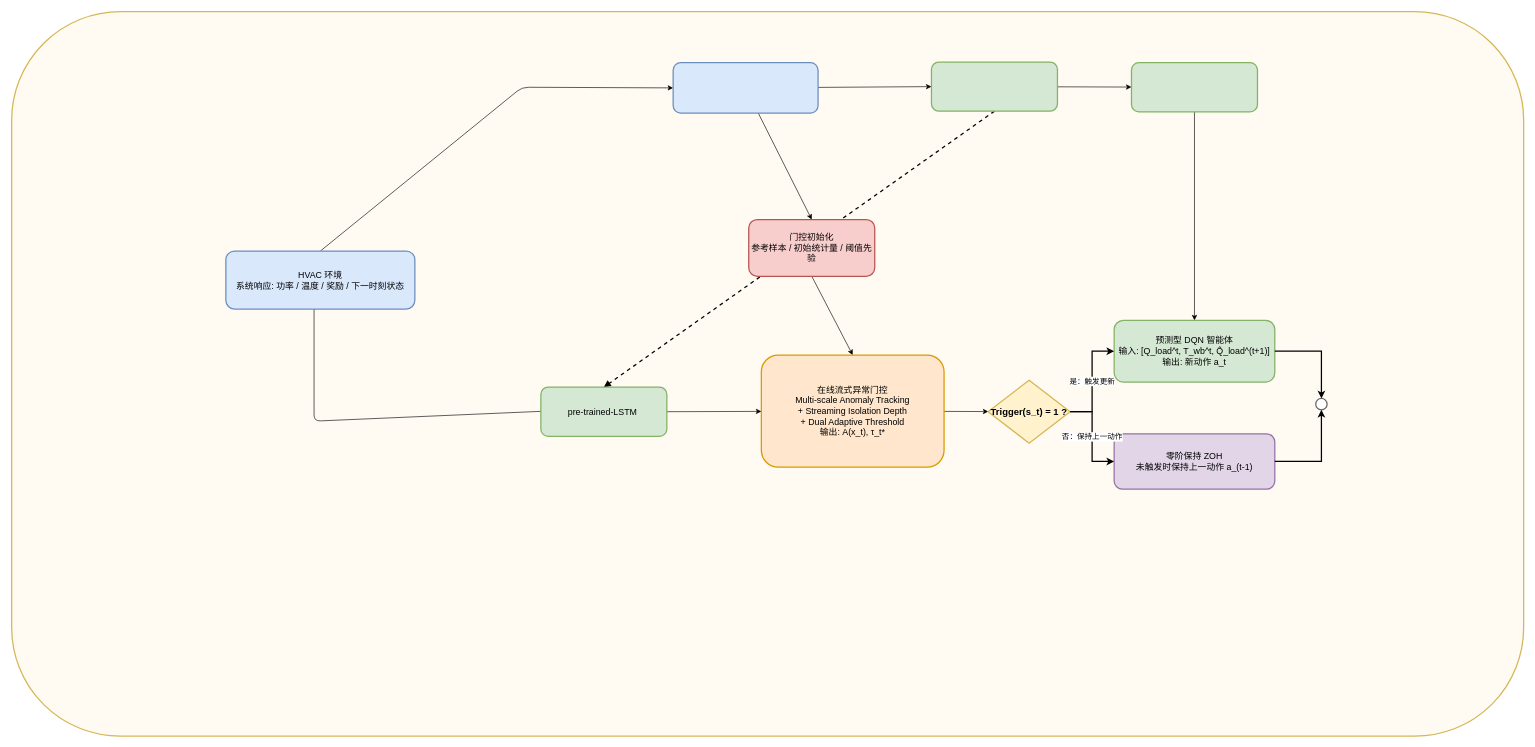
Some shapes in this 1535 by 747 pixel diagram are drawn without their labels. Here are the shapes that lost their labels. From the top down, the box of each, then its label:
(672, 62, 818, 113): 历史运行数据 负荷 / 温度 / 功率 / 动作序列
(931, 61, 1058, 112): 负荷预测模型训练 LSTM Predictor
(1131, 62, 1258, 112): DQN 策略训练 Predictive RL Policy
